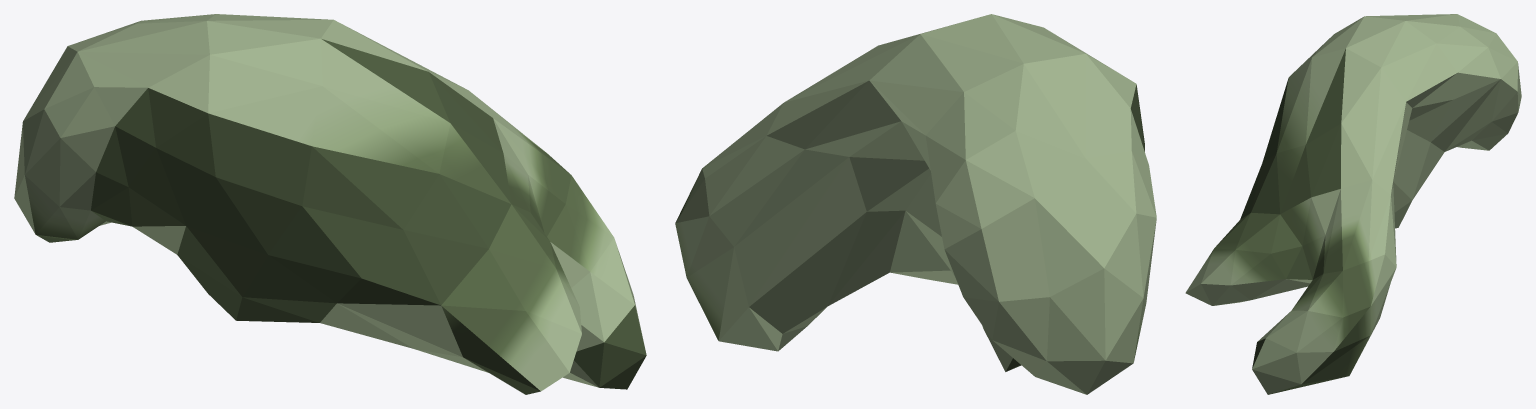
File: EA_Swamp_tree6.008.glb
3 views of the same model, side by side, from view 1: azimuth 30°, elevation 25°; view 2: azimuth 150°, elevation 25°; view 3: azimuth 270°, elevation 25° (orthographic). The views are drawn at different scales.
Parts seen in each view (by area): view 1: EA_Swamp_tree6.008; view 2: EA_Swamp_tree6.008; view 3: EA_Swamp_tree6.008.
Part boxes in pixels (x1,y1,x2,y2): EA_Swamp_tree6.008: (14,14,646,394); EA_Swamp_tree6.008: (675,14,1156,394); EA_Swamp_tree6.008: (1185,14,1521,394).
Size of the model in its own units: 2.82 by 2.05 by 2.37.
Materials: 1 (1 with a texture image).
